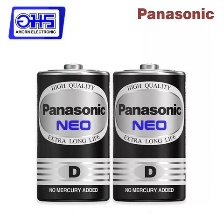battery: (110, 58, 188, 205), (34, 59, 113, 204)
